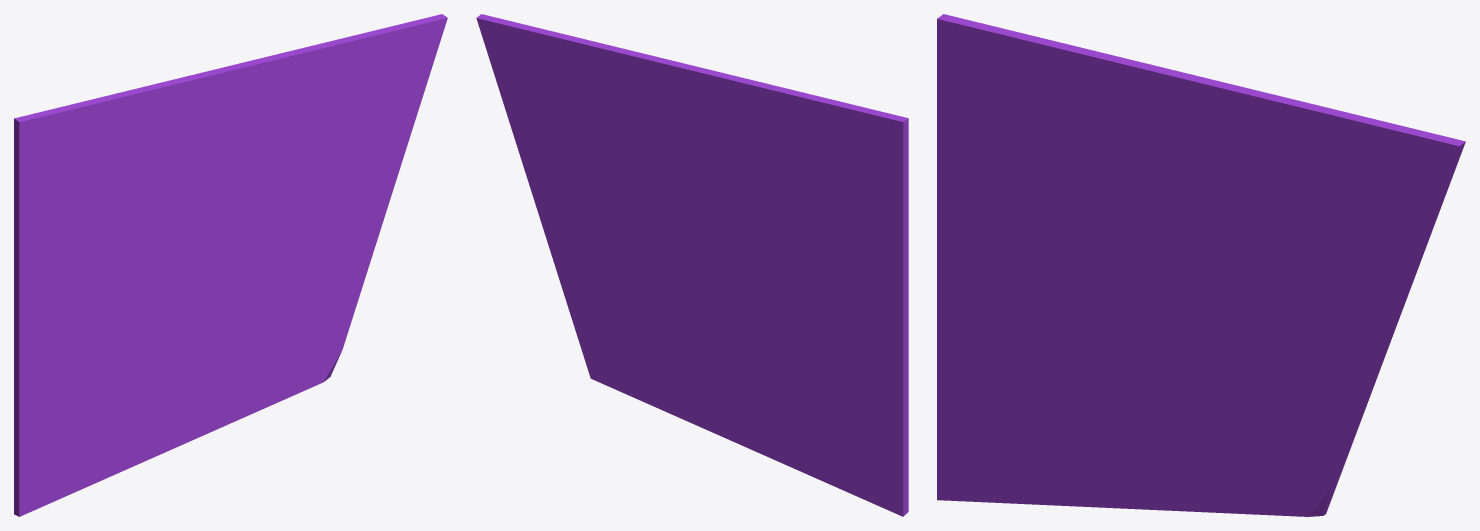
File: Window_41_1_chunks.fbx
3 renders of one model, left to right at view 1: azimuth 30°, elevation 25°; view 2: azimuth 150°, elevation 25°; view 3: azimuth 330°, elevation 25°, orthographic. The views are drawn at different scales.
Parts seen in each view (by area): view 1: Window_41_1_0, Window_41_1_2, Window_41_1_25, Window_41_1_21, Window_41_1_14, Window_41_1_6, Window_41_1_17, Window_41_1_7, Window_41_1_28, Window_41_1_1, Window_41_1_29, Window_41_1_4 (+15 smaller); view 2: Window_41_1_0, Window_41_1_2, Window_41_1_14, Window_41_1_25, Window_41_1_21, Window_41_1_6, Window_41_1_10, Window_41_1_28, Window_41_1_8, Window_41_1_29, Window_41_1_17, Window_41_1_7 (+14 smaller); view 3: Window_41_1_0, Window_41_1_2, Window_41_1_21, Window_41_1_25, Window_41_1_14, Window_41_1_6, Window_41_1_7, Window_41_1_17, Window_41_1_28, Window_41_1_1, Window_41_1_29, Window_41_1_4 (+16 smaller).
Part boxes in pixels (x1,y1,x2,y2): Window_41_1_0: (14,144,151,305); Window_41_1_2: (14,291,147,452); Window_41_1_25: (193,48,303,188); Window_41_1_21: (349,14,447,162); Window_41_1_14: (14,388,137,516); Window_41_1_6: (199,284,339,374); Window_41_1_17: (262,35,368,170); Window_41_1_7: (288,229,377,356); Window_41_1_28: (107,70,215,186); Window_41_1_1: (128,244,231,350); Window_41_1_29: (14,87,146,154); Window_41_1_4: (170,370,333,449); Window_41_1_0: (773,141,908,308); Window_41_1_2: (782,293,908,446); Window_41_1_14: (782,378,908,516); Window_41_1_25: (615,50,723,183); Window_41_1_21: (476,14,572,156); Window_41_1_6: (582,280,726,374); Window_41_1_10: (702,177,860,286); Window_41_1_28: (706,70,811,185); Window_41_1_8: (601,225,688,322); Window_41_1_29: (776,87,908,156); Window_41_1_17: (560,33,651,166); Window_41_1_7: (549,239,625,351); Window_41_1_0: (937,45,1098,283); Window_41_1_2: (937,243,1093,421); Window_41_1_21: (1339,115,1465,287); Window_41_1_25: (1149,73,1296,235); Window_41_1_14: (937,391,1081,505); Window_41_1_6: (1156,342,1335,508); Window_41_1_7: (1264,330,1376,494); Window_41_1_17: (1234,100,1362,237); Window_41_1_28: (1044,52,1184,162); Window_41_1_1: (1070,269,1196,373); Window_41_1_29: (937,14,1098,105); Window_41_1_4: (1121,453,1328,516).
Bounding box in the file's own units: 1246 × 1101 × 27.2.
